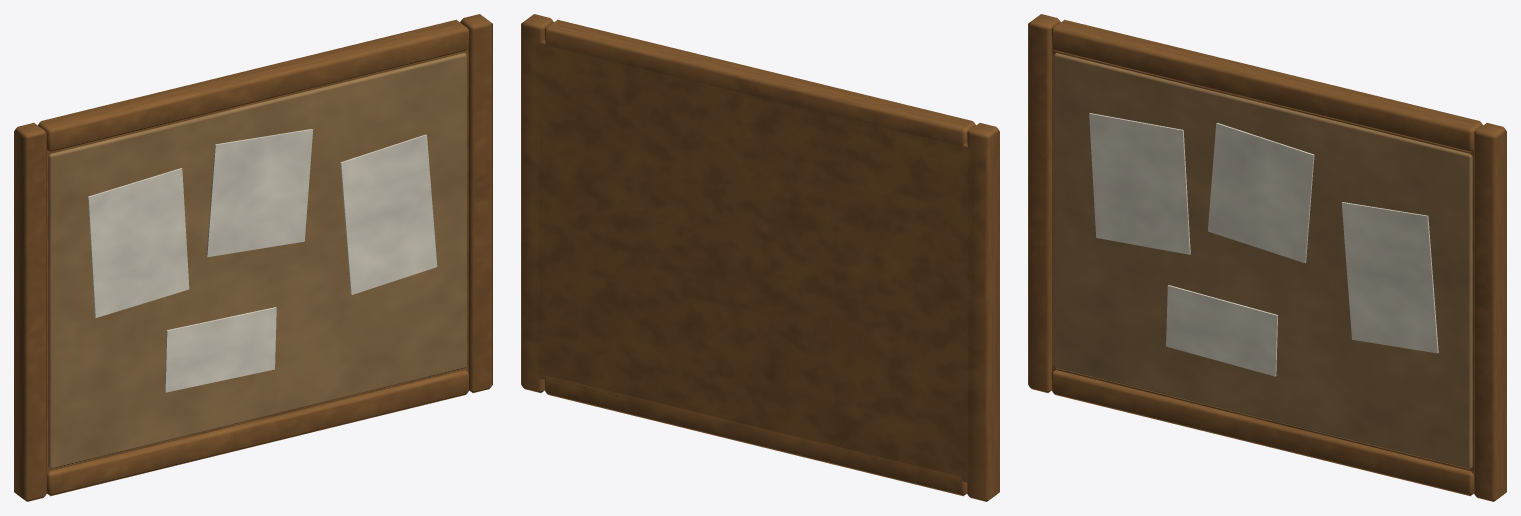
Rendered from Furn_NoticeBoard.fbx.
3 views of the same model, side by side, from view 1: azimuth 30°, elevation 25°; view 2: azimuth 150°, elevation 25°; view 3: azimuth 330°, elevation 25° (orthographic).
Parts seen in each view (by area): view 1: Furn_NoticeBoard_Mesh; view 2: Furn_NoticeBoard_Mesh; view 3: Furn_NoticeBoard_Mesh.
Boxes of the visible parts, box(x1,y1,x2,y2) form: Furn_NoticeBoard_Mesh: box(14, 14, 492, 501); Furn_NoticeBoard_Mesh: box(521, 14, 999, 501); Furn_NoticeBoard_Mesh: box(1028, 14, 1506, 501).
Bounding box in the file's own units: 1.2 × 0.9 × 0.06.
Materials: 4 (4 with a texture image).
